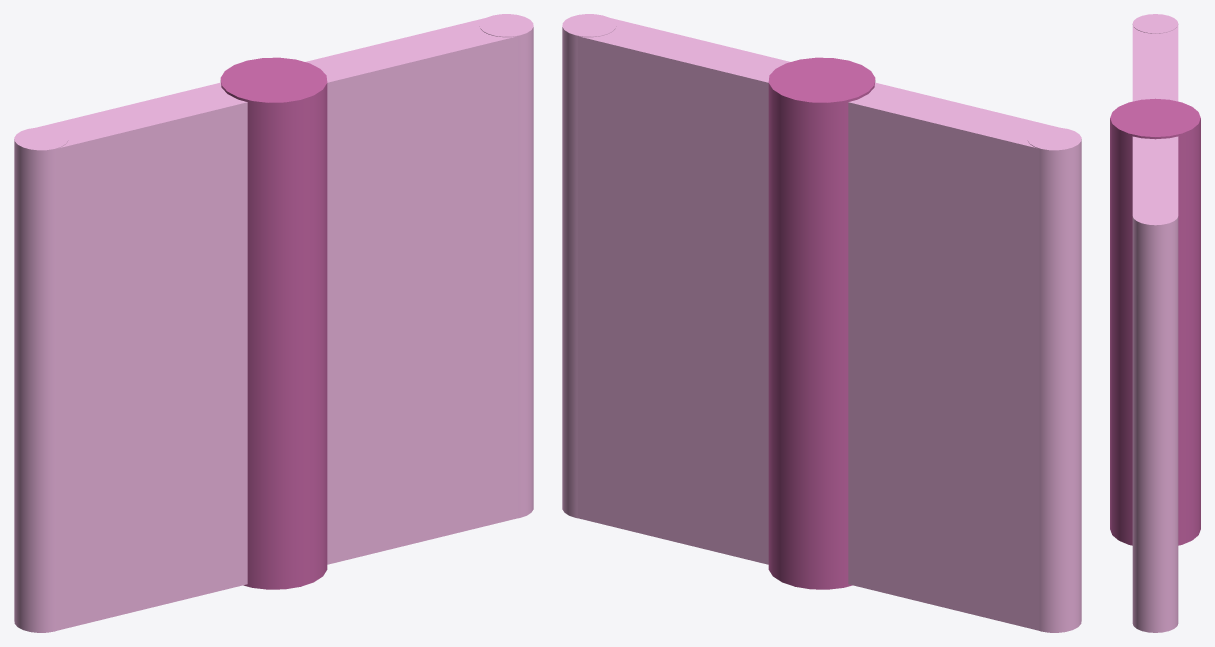
The model's file is Turnstile.fbx.
The picture shows the model from 3 angles, left to right: view 1: azimuth 30°, elevation 25°; view 2: azimuth 150°, elevation 25°; view 3: azimuth 270°, elevation 25°; orthographic projection. The views are drawn at different scales.
Visible parts, largest first — view 1: Paddle, Turnstile, RoundEdge0.001, RoundEdge0; view 2: Paddle, Turnstile, RoundEdge0.001, RoundEdge0; view 3: Turnstile, RoundEdge0, Paddle, RoundEdge0.001.
Part boxes in pixels (box(x1,y1,x2,y2)): Paddle: box(37, 18, 518, 630); Turnstile: box(220, 57, 327, 589); RoundEdge0.001: box(14, 127, 68, 632); RoundEdge0: box(479, 14, 533, 518); Paddle: box(577, 18, 1058, 630); Turnstile: box(768, 57, 875, 589); RoundEdge0.001: box(1027, 127, 1081, 632); RoundEdge0: box(562, 14, 616, 518); Turnstile: box(1110, 98, 1200, 545); RoundEdge0: box(1132, 206, 1178, 632); Paddle: box(1132, 25, 1178, 214); RoundEdge0.001: box(1132, 14, 1178, 33).
Size of the model in its own units: 220 by 200 by 40.
